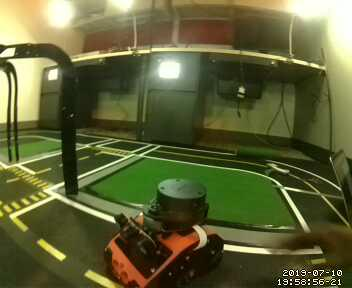pheeno: (103, 178, 227, 288)
